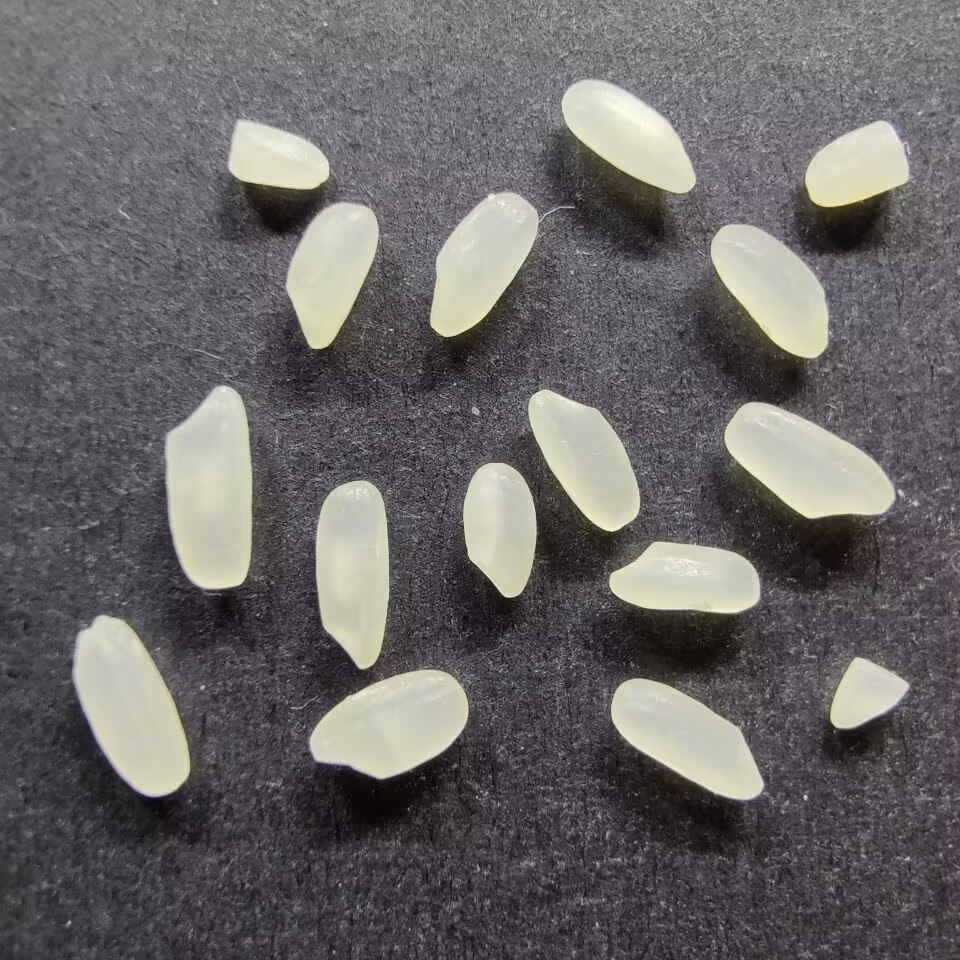broken: (802, 119, 913, 209), (226, 117, 331, 191), (829, 655, 914, 732)
rice: (69, 613, 193, 799), (721, 399, 897, 523), (607, 675, 768, 802), (161, 383, 256, 591), (307, 667, 470, 780), (709, 219, 832, 360), (526, 385, 643, 532), (427, 190, 541, 339), (559, 78, 698, 194), (311, 479, 391, 672), (283, 200, 380, 350), (606, 539, 764, 615), (460, 460, 537, 599)
